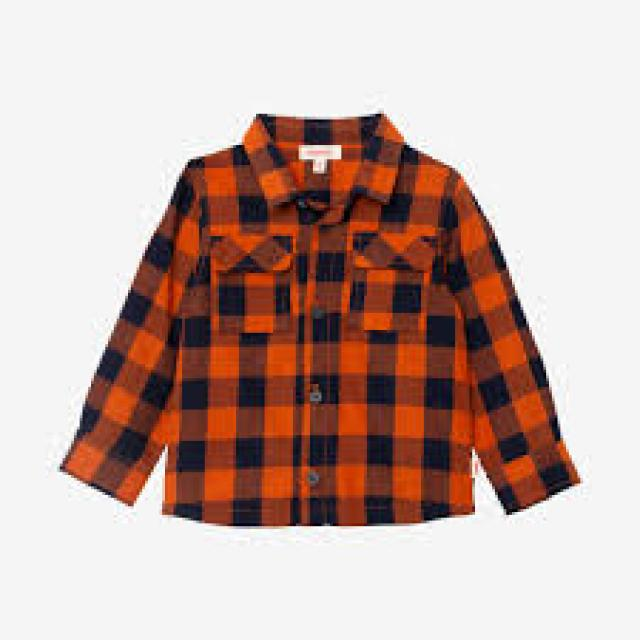plaid: (64, 102, 593, 577)
